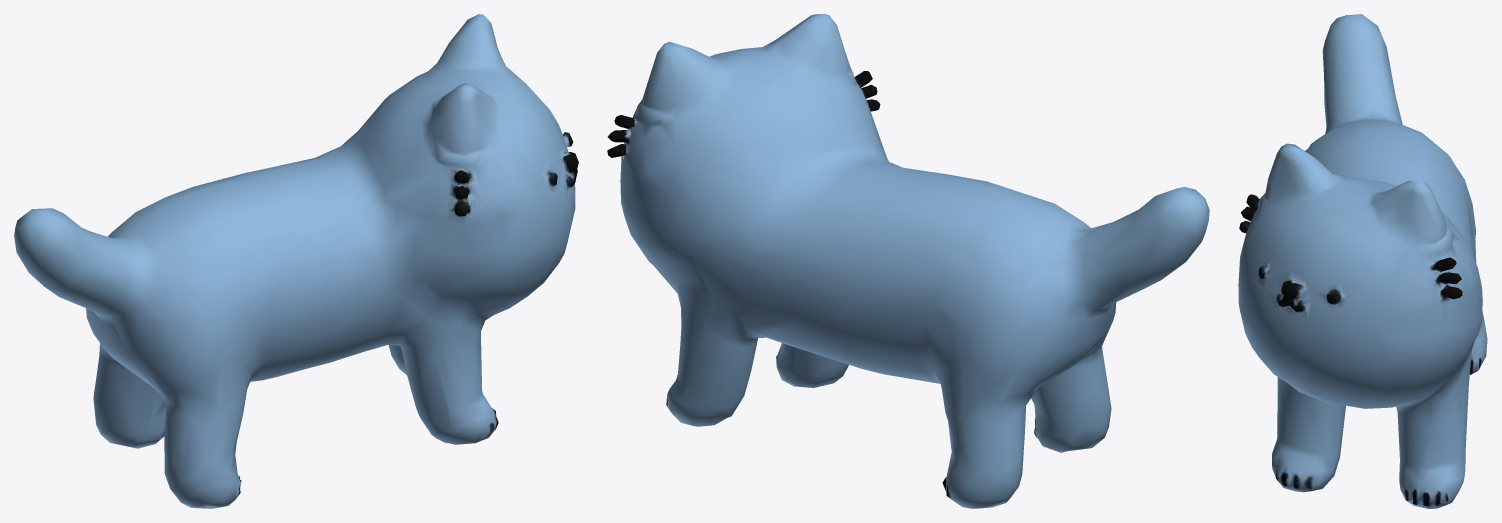
Rendered from sillynubcat-lo.glb.
3 views of the same model, side by side, from view 1: azimuth 30°, elevation 25°; view 2: azimuth 150°, elevation 25°; view 3: azimuth 270°, elevation 25° (orthographic). The views are drawn at different scales.
Parts seen in each view (by area): view 1: tripo_node_6c193458-b946-4899-afc2-fb961f3b6e92; view 2: tripo_node_6c193458-b946-4899-afc2-fb961f3b6e92; view 3: tripo_node_6c193458-b946-4899-afc2-fb961f3b6e92.
Part boxes in pixels (x1,y1,x2,y2): tripo_node_6c193458-b946-4899-afc2-fb961f3b6e92: (14,14,578,508); tripo_node_6c193458-b946-4899-afc2-fb961f3b6e92: (607,14,1209,508); tripo_node_6c193458-b946-4899-afc2-fb961f3b6e92: (1238,14,1487,508).
Size of the model in its own units: 1.59 by 0.9992 by 0.6619.
1 material, 1 textured.
